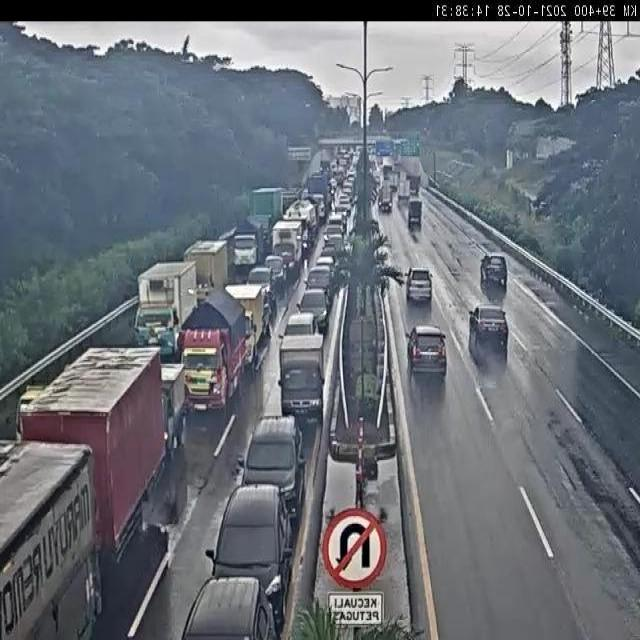Car: (206, 484, 295, 631), (241, 415, 306, 519), (472, 245, 513, 298), (408, 326, 448, 374), (468, 302, 510, 343), (296, 287, 328, 336), (246, 264, 279, 310), (401, 263, 434, 304), (306, 264, 333, 296), (308, 194, 326, 229), (323, 224, 344, 253), (407, 198, 423, 229), (378, 184, 393, 213), (336, 192, 352, 218), (328, 211, 344, 234), (398, 178, 411, 206), (369, 161, 380, 191)
Truck: (25, 349, 169, 563), (1, 439, 101, 638), (176, 294, 252, 408), (137, 259, 199, 355), (275, 332, 325, 418)
